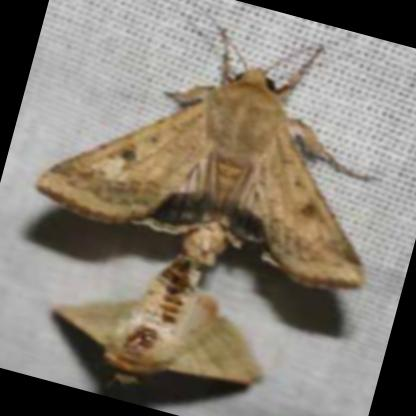helicoverpa: (36, 66, 366, 299)
